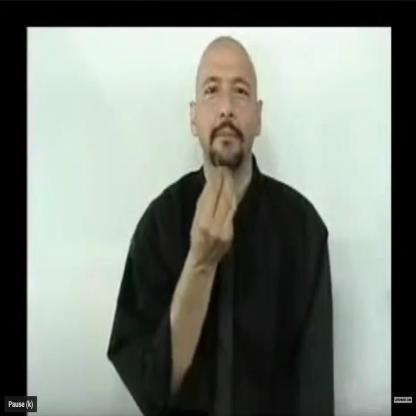Food: (177, 28, 292, 259)
